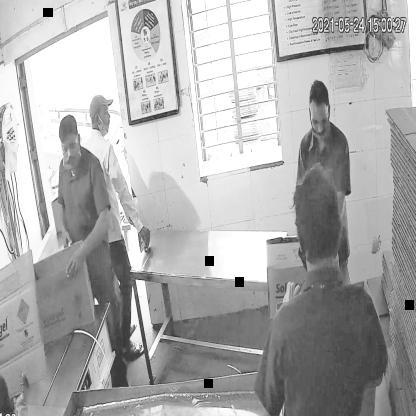goggles: (59, 136, 80, 157)
